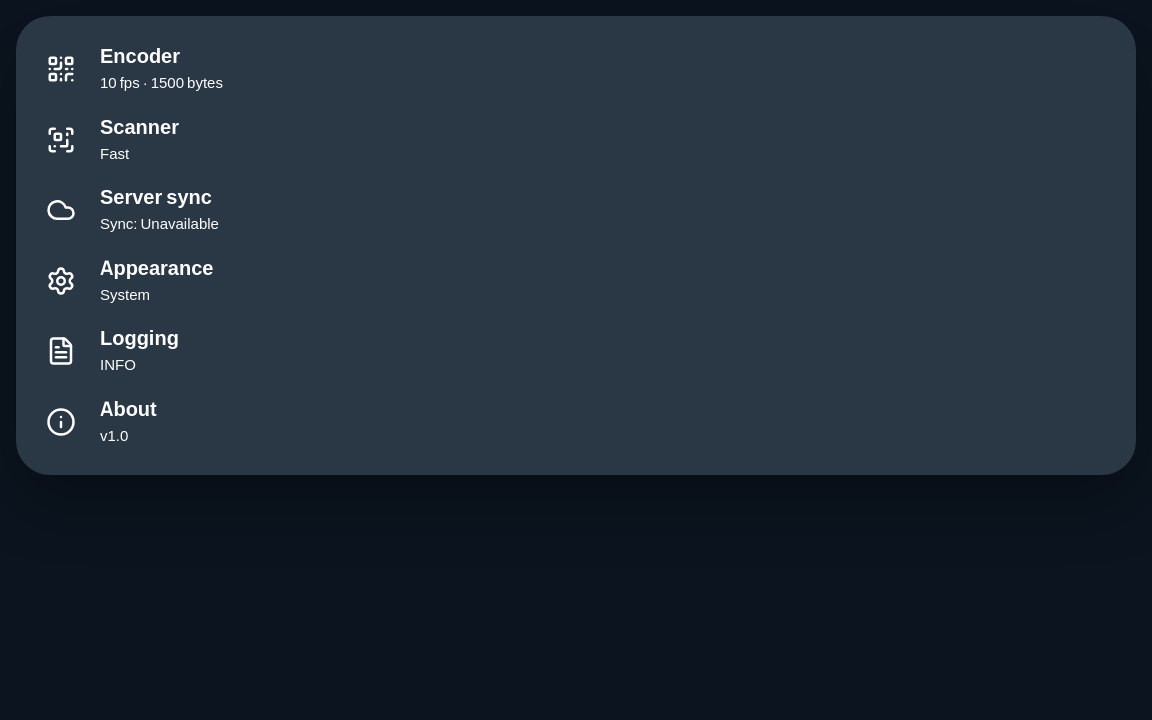
Test case: SettingsTab server auth flow › uses a compact visual back control with a full touch target
Click the button "Encoder 10 fps · 1500 bytes" at (61, 69), box [16,34,1136,104]
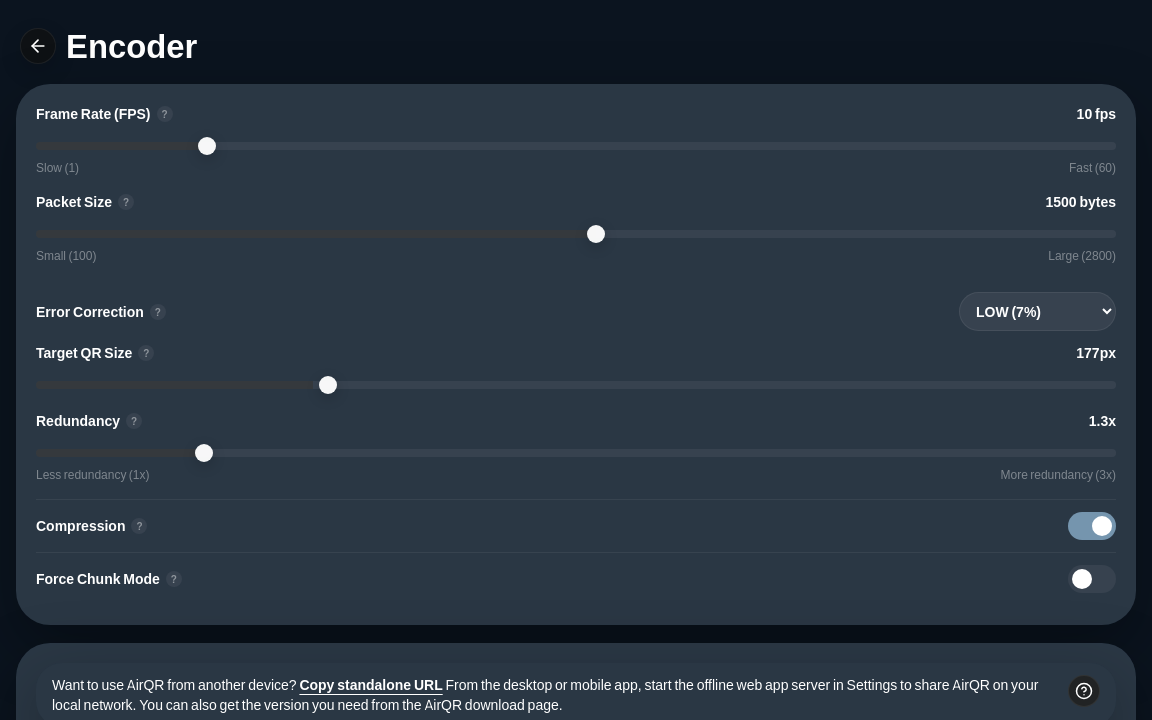
Expected: the element with class "airqr-settings-back-surface" is shown, [20,28,56,64]
Expected: the icon with class "airqr-settings-back-icon" is shown, [28,36,48,56]
